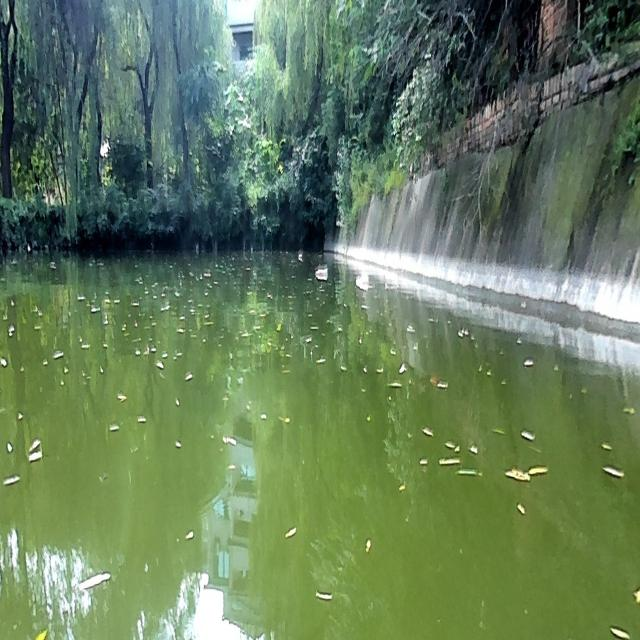bottle: (313, 264, 329, 278), (354, 271, 370, 284)
